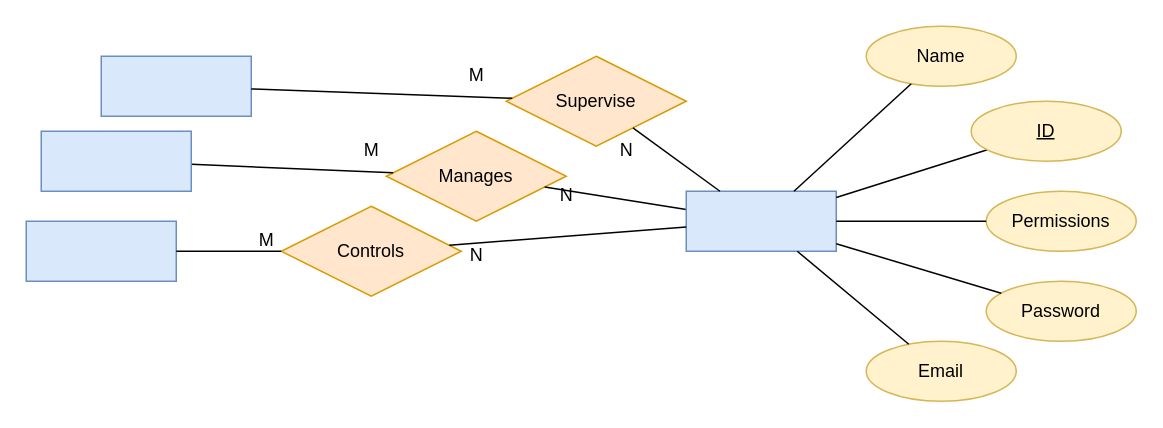
Some shapes in this 1163 by 428 pixel diagram are drawn without their labels. The shapes that lost their labels are listed below. From the top down, each one's box as (x1, y1, x2, y2) in pixels, then its label:
(100, 55, 251, 116): DataHistory
(40, 130, 191, 191): User
(685, 190, 836, 251): Admin
(25, 220, 176, 281): Subscription
